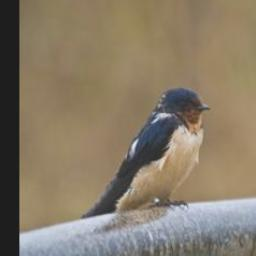Swallow: (81, 86, 212, 220)
